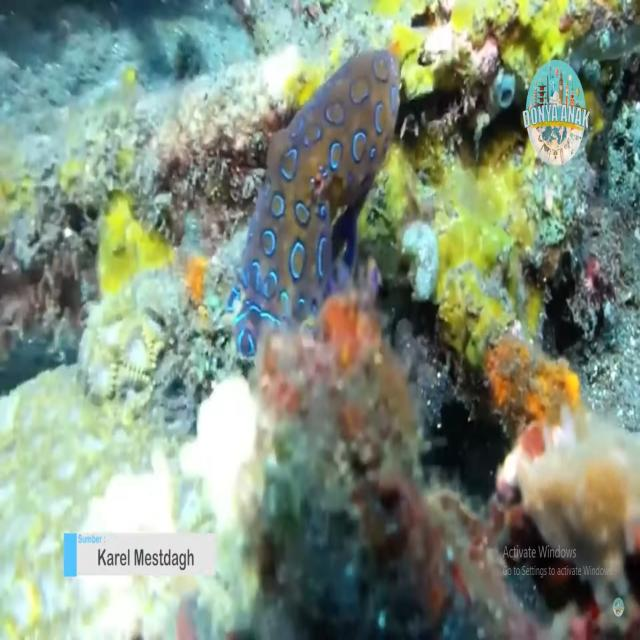blue_ringed_octopus: (223, 49, 400, 358)
